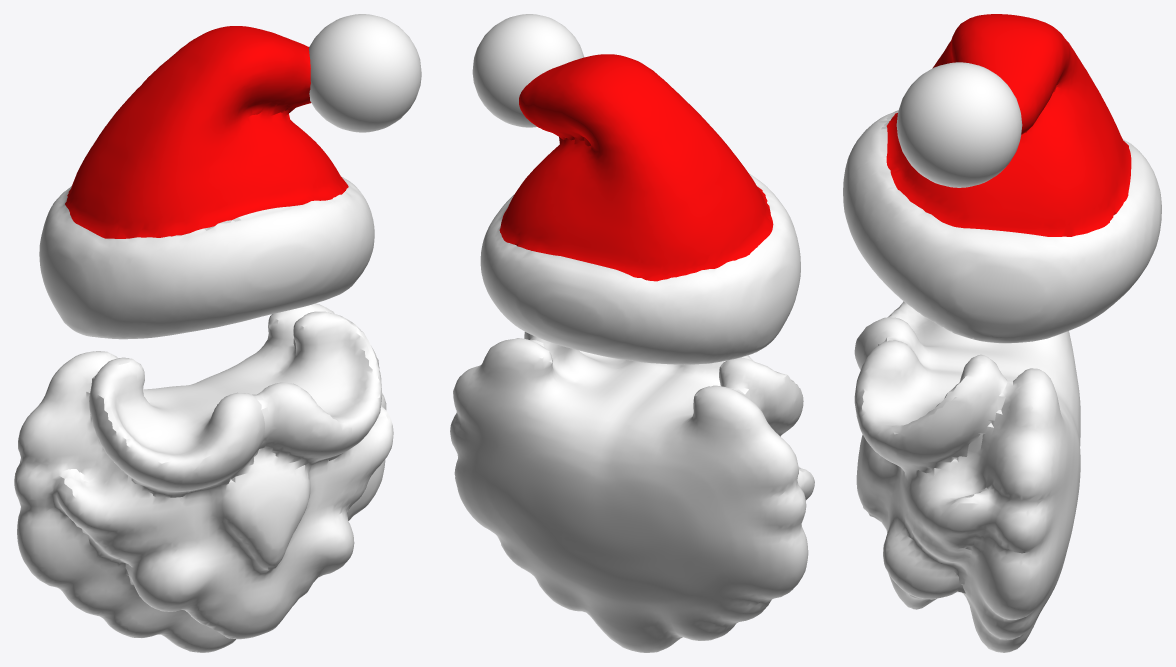
Rendered from santacloud_token.gltf.
The picture shows the model from 3 angles, left to right: view 1: azimuth 30°, elevation 25°; view 2: azimuth 150°, elevation 25°; view 3: azimuth 270°, elevation 25°; orthographic projection. The views are drawn at different scales.
Visible parts, largest first — view 1: Esfera; view 2: Esfera; view 3: Esfera.
Part boxes in pixels (<box>): Esfera: <box>14,14,421,652</box>; Esfera: <box>450,14,814,652</box>; Esfera: <box>843,14,1161,652</box>.
Bounding box in the file's own units: 0.6239 × 0.9941 × 0.4436.
1 material, 1 textured.
